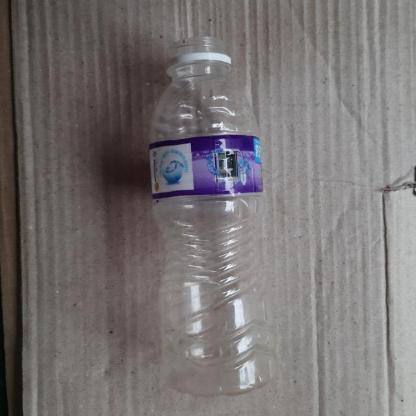Plastic Bottle: (148, 37, 276, 395)
